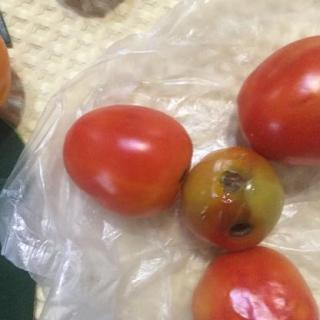Tomat: (48, 88, 200, 226), (223, 24, 320, 171), (175, 138, 286, 256), (172, 236, 317, 320)
